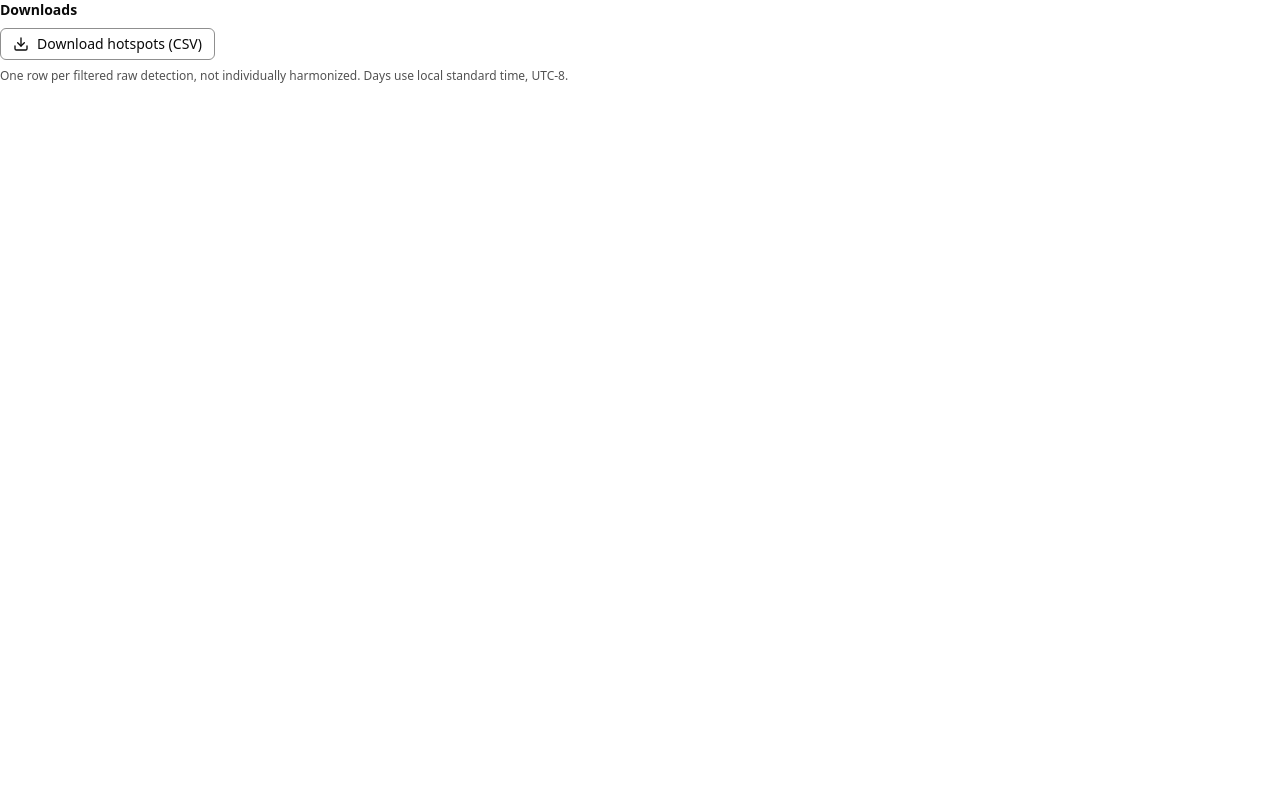
Test case: DownloadsMenu with the Blob fallback › shows a generic message when the server answers without the envelope
The width and height of the screenshot is (1280, 800).
Click the button "Download hotspots (CSV)": (108, 44) x1=0 y1=28 x2=215 y2=60
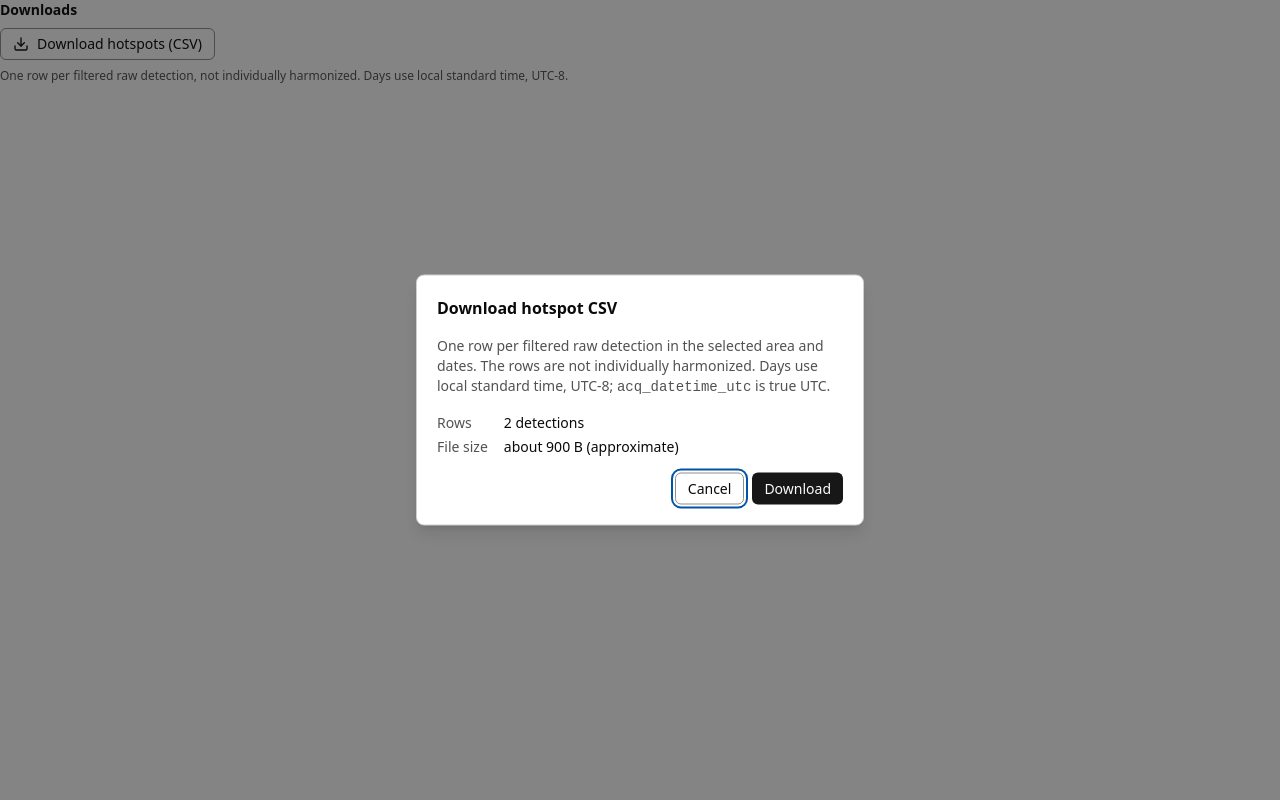
Click the button "Download": (798, 488) x1=752 y1=472 x2=843 y2=504
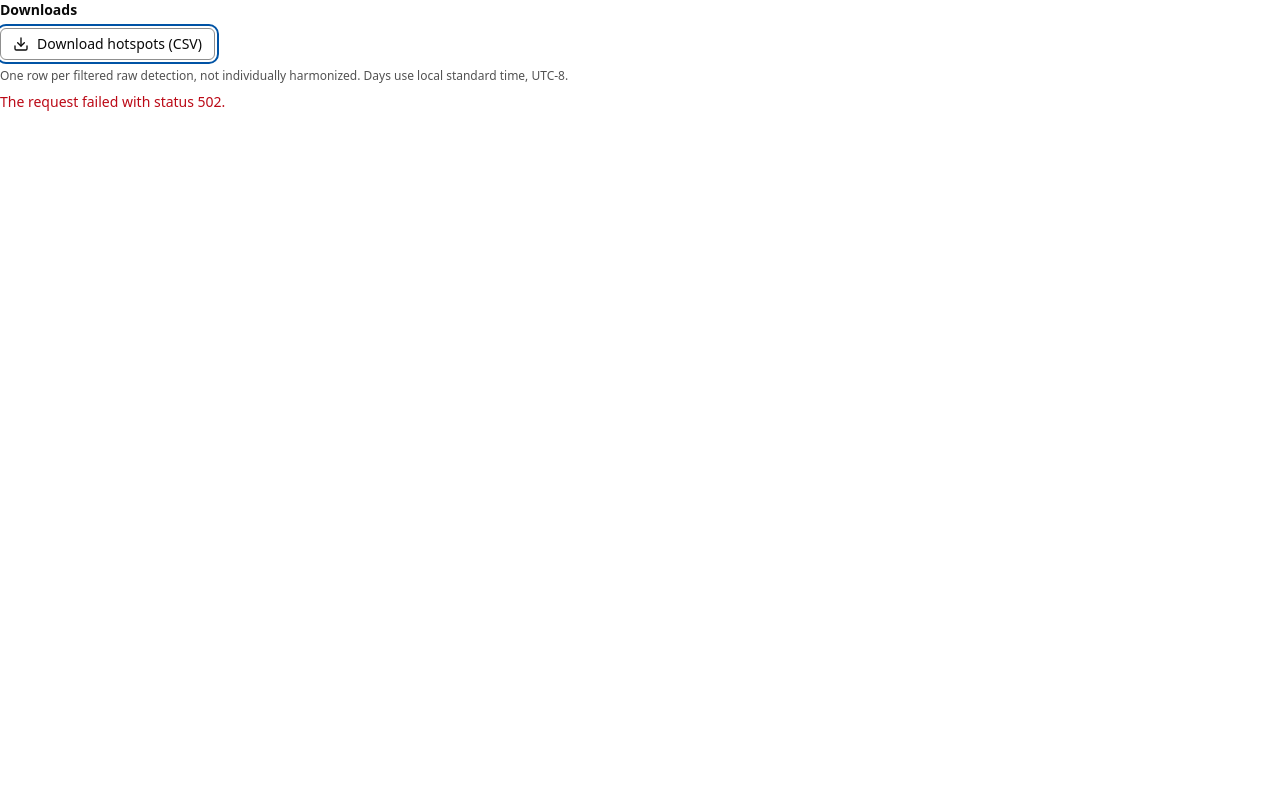
Expected: the message with test id "download-status" shows "status 502", x1=0 y1=92 x2=225 y2=111
